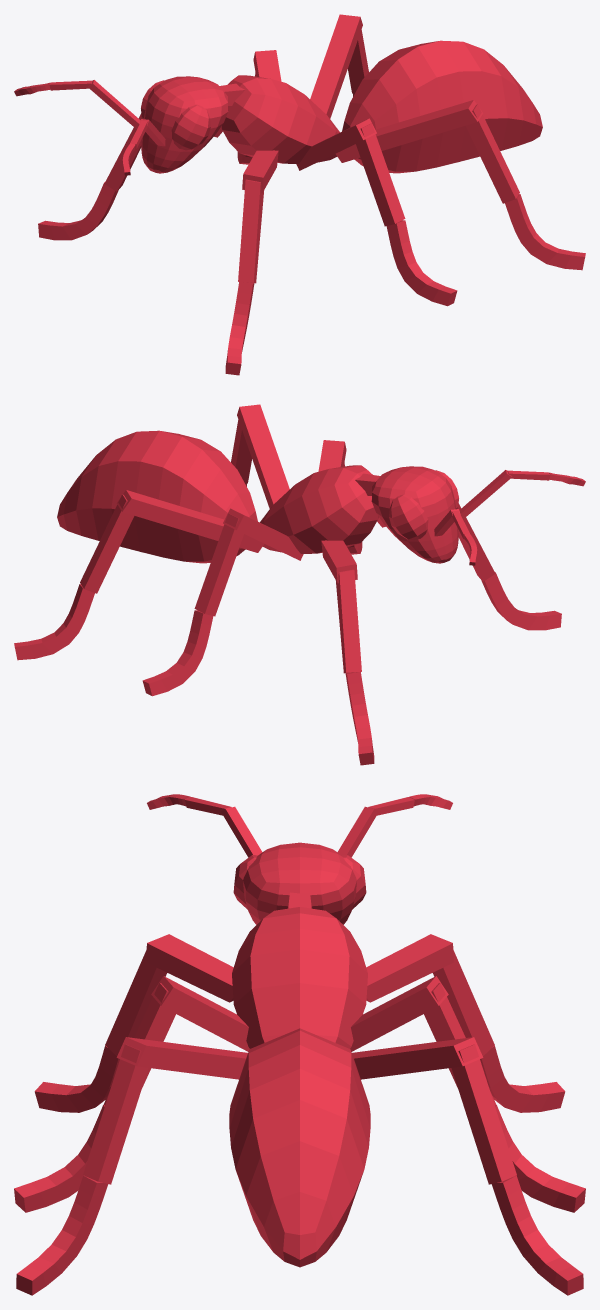
Rendered from Ant-webready.glb.
The picture shows the model from 3 angles, top to bottom: view 1: azimuth 30°, elevation 25°; view 2: azimuth 150°, elevation 25°; view 3: azimuth 270°, elevation 25°; orthographic projection. The views are drawn at different scales.
Parts seen in each view (by area): view 1: Abdomin; view 2: Abdomin; view 3: Abdomin.
Part boxes in pixels (bbox=[...]): Abdomin: bbox=[14, 14, 585, 375]; Abdomin: bbox=[14, 404, 585, 765]; Abdomin: bbox=[14, 794, 585, 1295].
Bounding box in the file's own units: 10.86 × 4.63 × 8.42.
